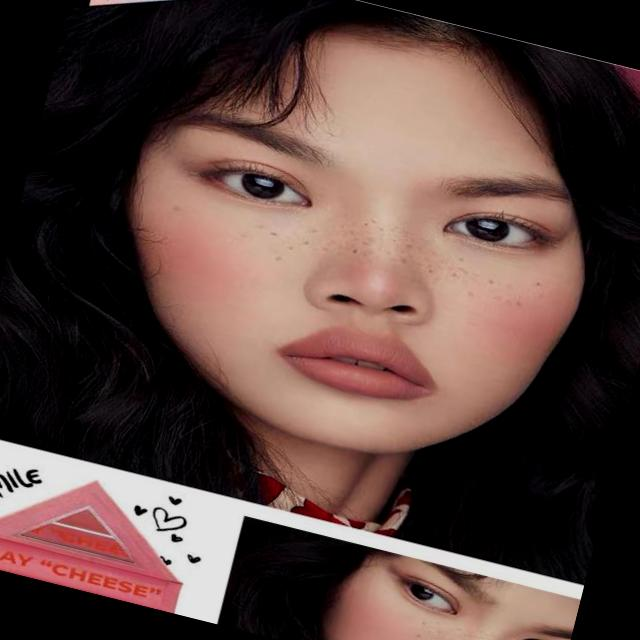freckle: (159, 168, 572, 333)
